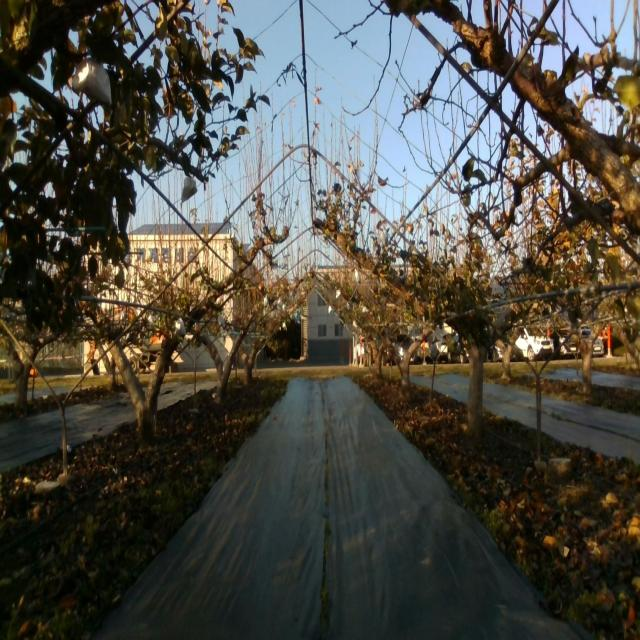pearbags: (71, 57, 112, 108), (181, 176, 198, 204), (175, 317, 186, 336)
